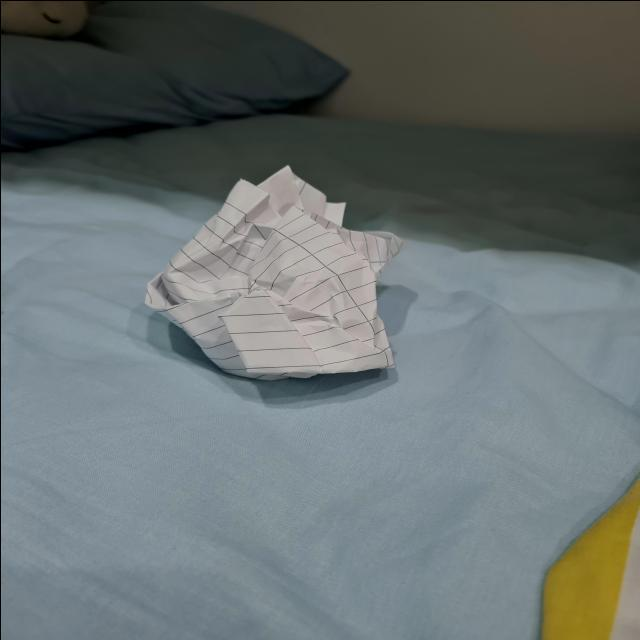Paper: (130, 153, 421, 397)
